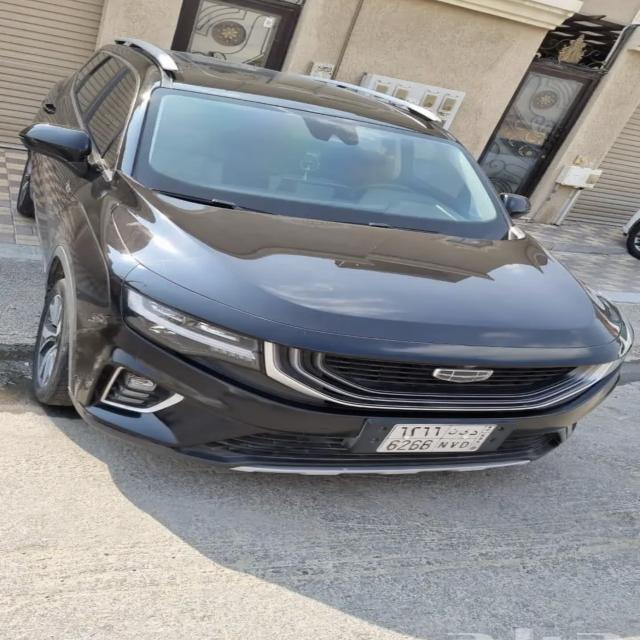license_plate: (388, 422, 495, 459)
